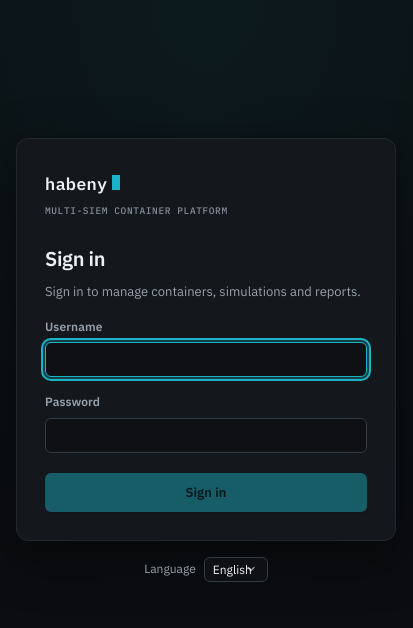
it: Login › shows the error and clears the password when sign-in fails
This screenshot has width=413, height=628.
In the field labelled "Username": (206,360) left=45, top=342, right=367, bottom=377, type "admin"
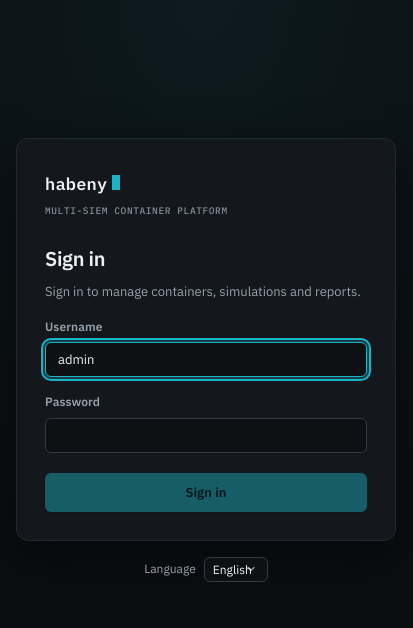
In the password field labelled "Password": (206,435) left=45, top=418, right=367, bottom=453, type "wrong"
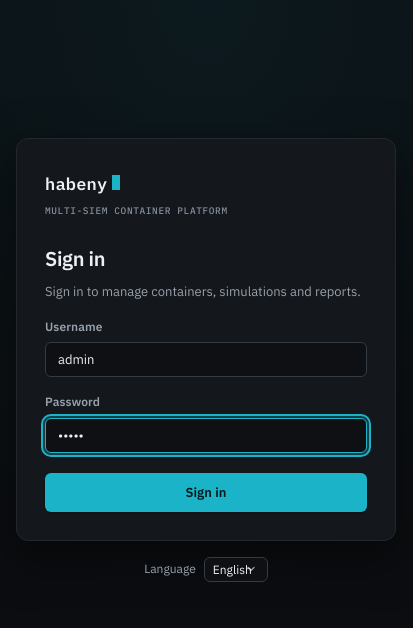
Click the button "Sign in": (206,492) left=45, top=473, right=367, bottom=512
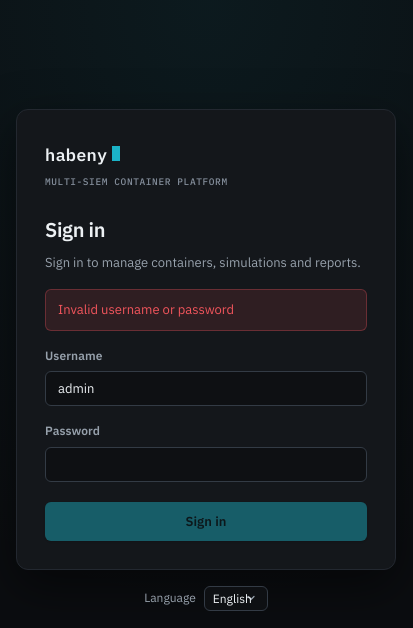
Expected: the message reads "Invalid username or password", left=58, top=301, right=234, bottom=318
Expected: the password field labelled "Password" is empty, left=45, top=447, right=367, bottom=482
